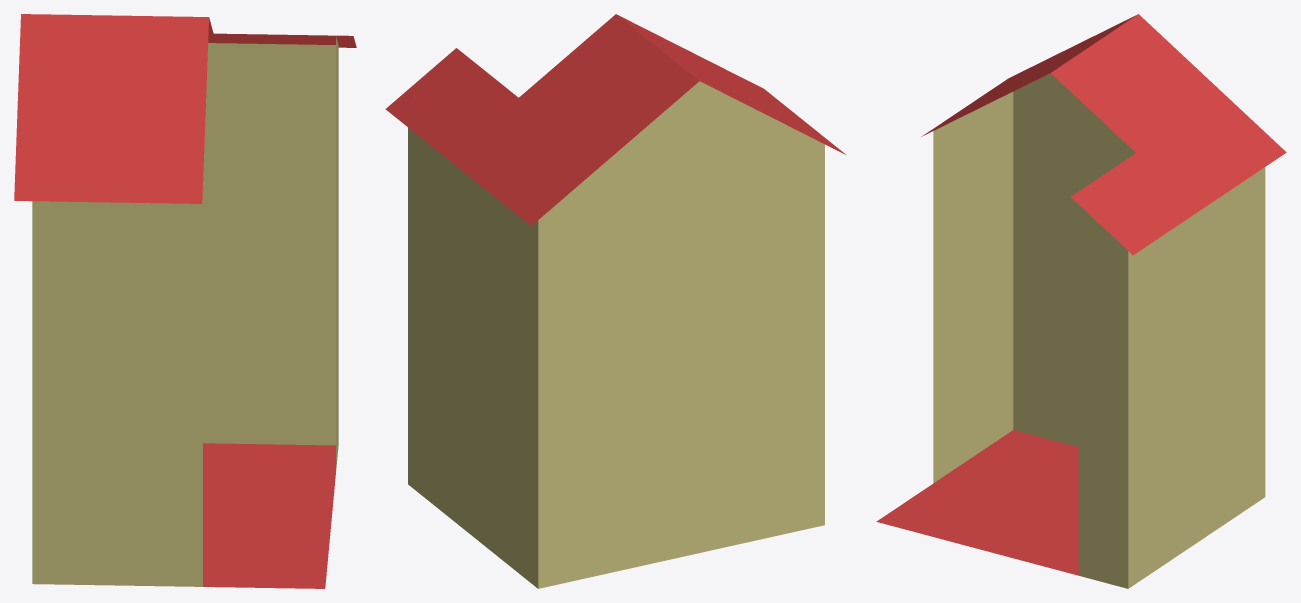
The picture shows the model from 3 angles, left to right: view 1: azimuth 30°, elevation 25°; view 2: azimuth 150°, elevation 25°; view 3: azimuth 270°, elevation 25°; orthographic projection. The views are drawn at different scales.
Size of the model in its own units: 6.79 by 6.65 by 7.89.
